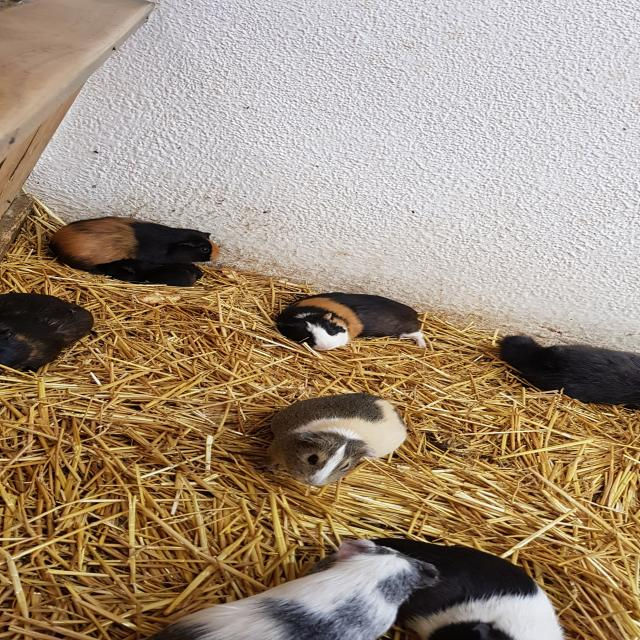guinea pig: (145, 538, 440, 640), (308, 536, 574, 639), (265, 390, 407, 488), (268, 290, 431, 354), (47, 216, 224, 268), (1, 286, 99, 375), (89, 256, 207, 288)
